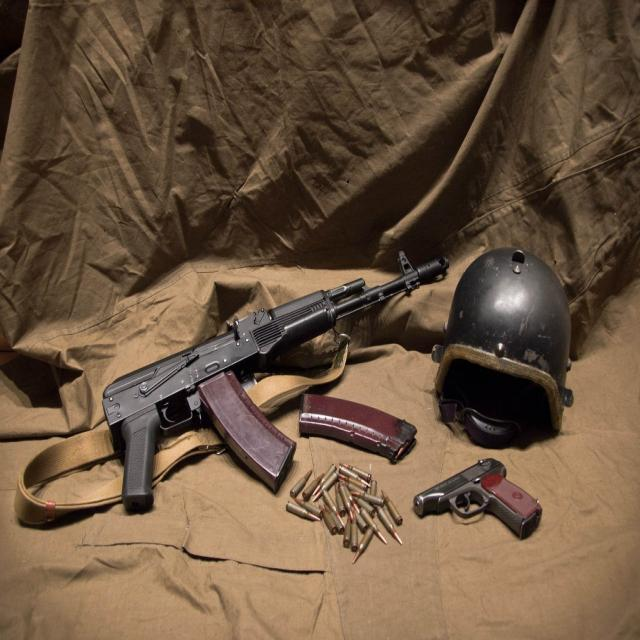firearm: (102, 254, 446, 512)
pistol: (414, 458, 544, 539)
